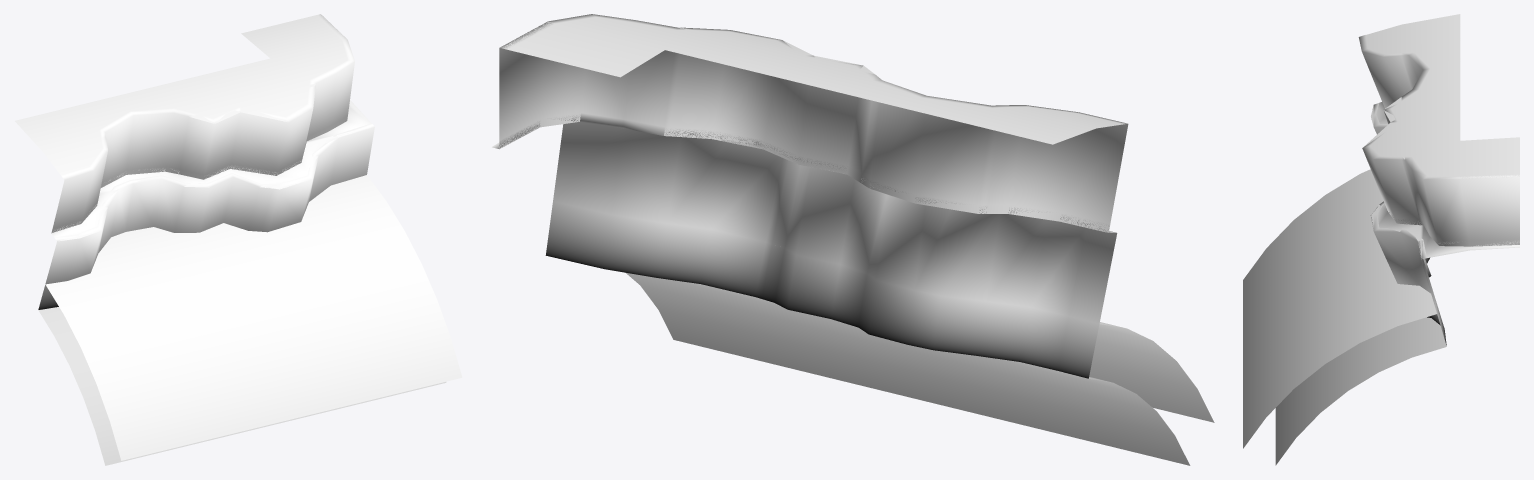
Rendered from grd_Ew_M_0.dae.
3 renders of one model, left to right at view 1: azimuth 30°, elevation 25°; view 2: azimuth 150°, elevation 25°; view 3: azimuth 270°, elevation 25°, orthographic. The views are drawn at different scales.
Visible parts, largest first — view 1: ocean_3_0, cliff1_1_0, grass_2_0, bottom_0_0, river_edge_4_0; view 2: cliff1_1_0, bottom_0_0, grass_2_0, ocean_3_0; view 3: ocean_3_0, cliff1_1_0, grass_2_0, bottom_0_0, river_edge_4_0.
Boxes of the visible parts, box(x1,y1,x2,y2) form: ocean_3_0: box(46, 175, 462, 460); cliff1_1_0: box(38, 14, 374, 309); grass_2_0: box(15, 14, 371, 241); bottom_0_0: box(38, 307, 446, 465); river_edge_4_0: box(45, 175, 371, 291); cliff1_1_0: box(499, 14, 1128, 378); bottom_0_0: box(625, 272, 1190, 465); grass_2_0: box(492, 17, 1127, 232); ocean_3_0: box(1089, 322, 1214, 422); ocean_3_0: box(1243, 169, 1436, 448); cliff1_1_0: box(1358, 35, 1519, 345); grass_2_0: box(1363, 14, 1519, 258); bottom_0_0: box(1275, 317, 1446, 465); river_edge_4_0: box(1385, 266, 1436, 316).
Size of the model in its own units: 512 by 404 by 354.
5 materials, 1 textured.
